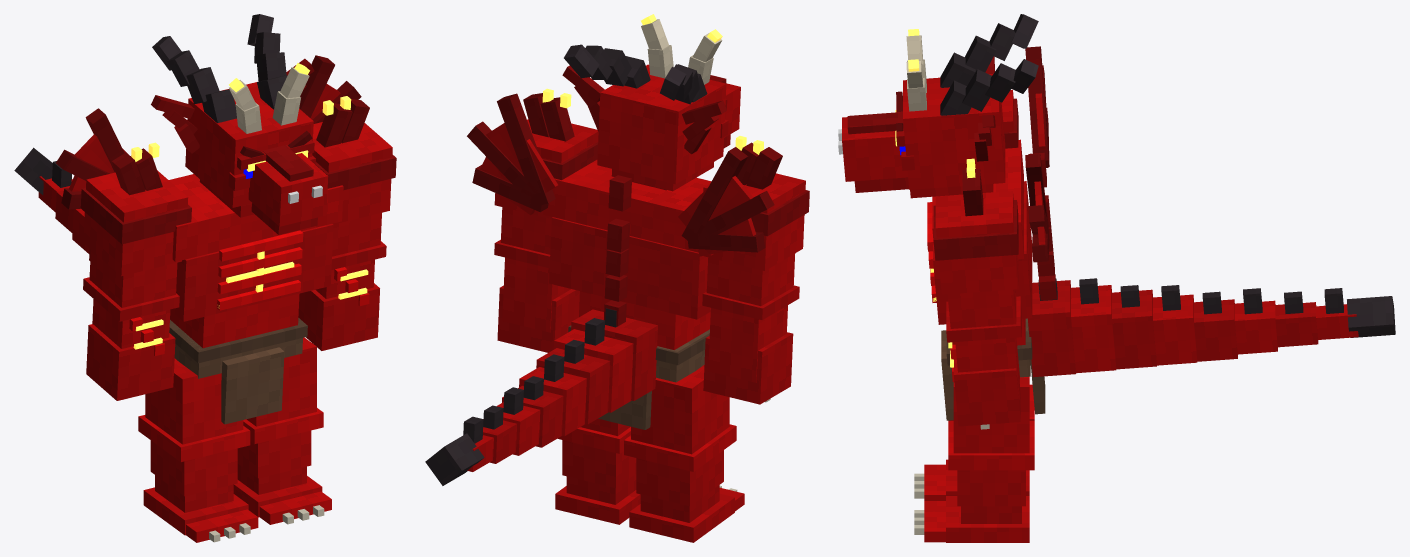
Rendered from dragonoid_s1_evo2.glb.
3 renders of one model, left to right at view 1: azimuth 30°, elevation 25°; view 2: azimuth 150°, elevation 25°; view 3: azimuth 270°, elevation 25°, orthographic.
Parts seen in each view (by area): view 1: Torso, Head, ArmR, ArmL, LegR, LegL, Root; view 2: Torso, Head, ArmR, LegR, ArmL, LegL; view 3: Torso, Head, ArmL, LegL, LegR, ArmR.
Boxes of the visible parts, left/top/right/bottom form: Torso: left=14, top=55, right=361, bottom=424; Head: left=151, top=14, right=328, bottom=234; ArmR: left=80, top=142, right=191, bottom=400; ArmL: left=298, top=96, right=396, bottom=350; LegR: left=138, top=358, right=258, bottom=542; LegL: left=233, top=337, right=331, bottom=524; Root: left=209, top=505, right=324, bottom=542; Torso: left=425, top=93, right=774, bottom=485; Head: left=562, top=14, right=740, bottom=191; ArmR: left=702, top=136, right=809, bottom=404; LegR: left=624, top=365, right=744, bottom=542; ArmL: left=494, top=88, right=598, bottom=352; LegL: left=555, top=418, right=640, bottom=524; Torso: left=927, top=46, right=1395, bottom=420; Head: left=838, top=14, right=1038, bottom=198; ArmL: left=933, top=158, right=1021, bottom=429; LegL: left=924, top=376, right=1034, bottom=542; LegR: left=924, top=384, right=1034, bottom=500; ArmR: left=1001, top=89, right=1018, bottom=148.
Bounding box in the file's own units: 1.38 × 2.05 × 2.2.
33 materials, 33 textured.
